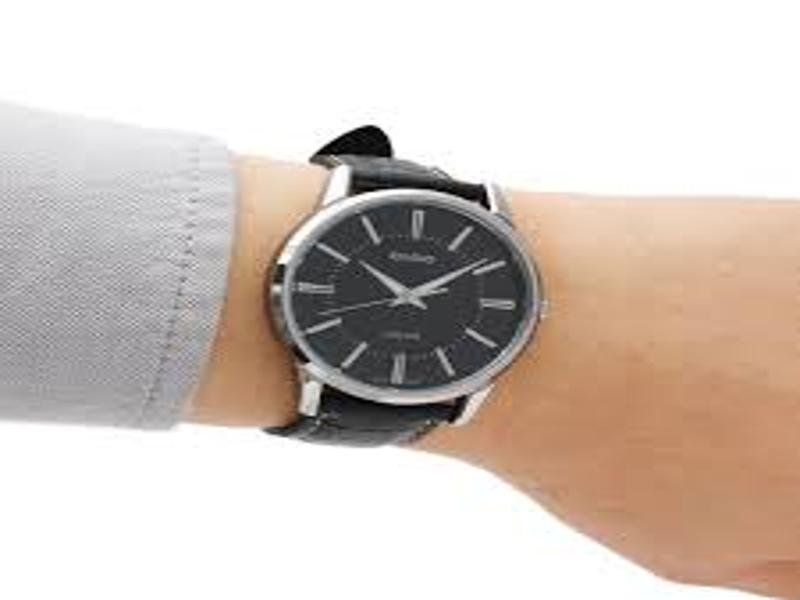watch: (260, 126, 553, 451)
